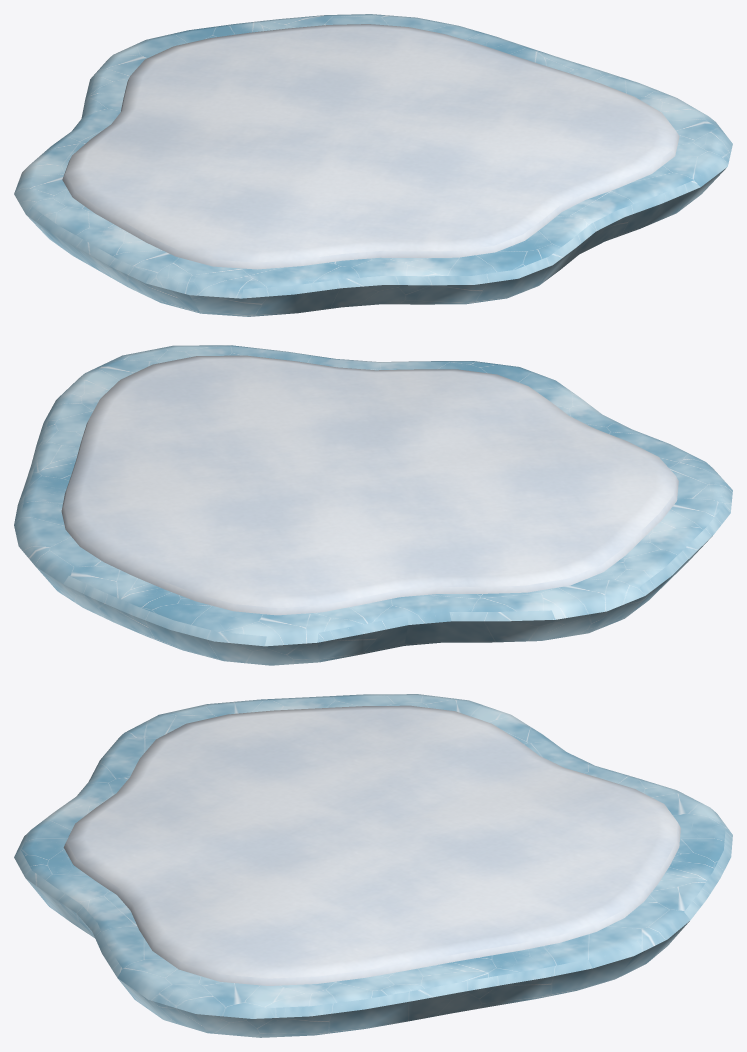
File: SM_IceFloe_C.fbx
The picture shows the model from 3 angles, top to bottom: view 1: azimuth 30°, elevation 25°; view 2: azimuth 150°, elevation 25°; view 3: azimuth 270°, elevation 25°; orthographic projection. The views are drawn at different scales.
Parts seen in each view (by area): view 1: SM_IceFloe_C; view 2: SM_IceFloe_C; view 3: SM_IceFloe_C.
Part boxes in pixels (bbox=[...]): SM_IceFloe_C: bbox=[14, 14, 732, 316]; SM_IceFloe_C: bbox=[14, 345, 732, 665]; SM_IceFloe_C: bbox=[14, 694, 732, 1037].
Size of what is drawn, in the model's own units: 647 by 684 by 54.
